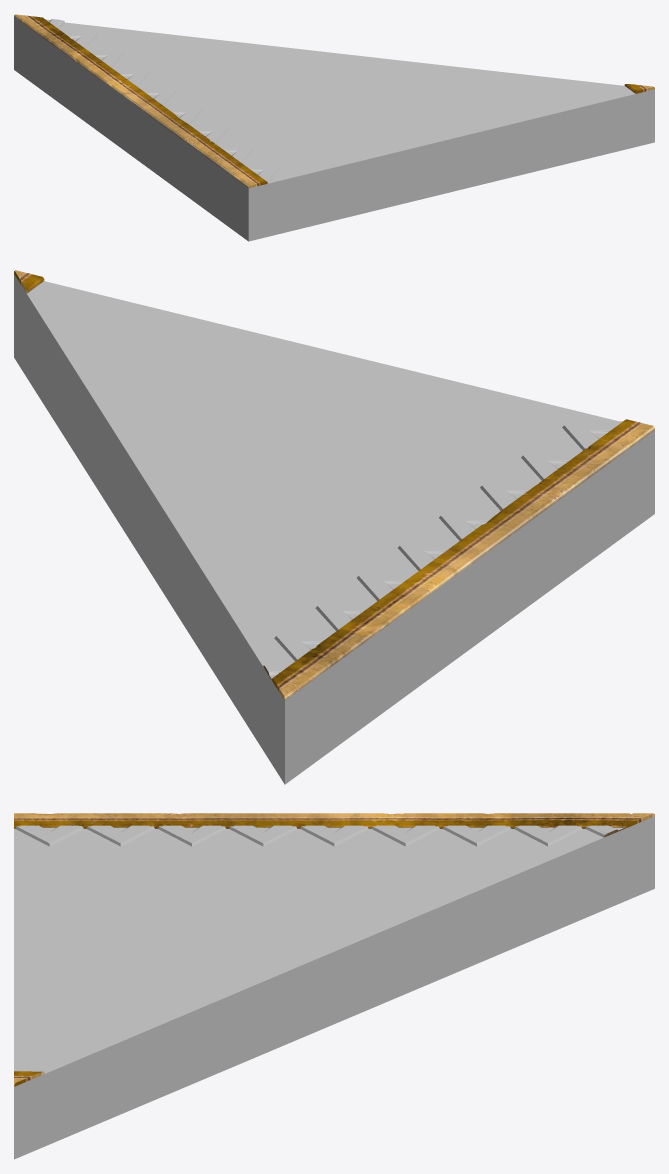
3 renders of one model, top to bottom at view 1: azimuth 30°, elevation 25°; view 2: azimuth 150°, elevation 25°; view 3: azimuth 270°, elevation 25°, orthographic. The views are drawn at different scales.
Visible parts, largest first — view 1: SM_Vault_4m_Triangular_Floor_01_LOD0; view 2: SM_Vault_4m_Triangular_Floor_01_LOD0; view 3: SM_Vault_4m_Triangular_Floor_01_LOD0.
Boxes of the visible parts, box(x1,y1,x2,y2) form: SM_Vault_4m_Triangular_Floor_01_LOD0: box(14, 14, 654, 241); SM_Vault_4m_Triangular_Floor_01_LOD0: box(14, 270, 654, 784); SM_Vault_4m_Triangular_Floor_01_LOD0: box(14, 813, 654, 1159).
Bounding box in the file's own units: 4 × 0.5233 × 4.
